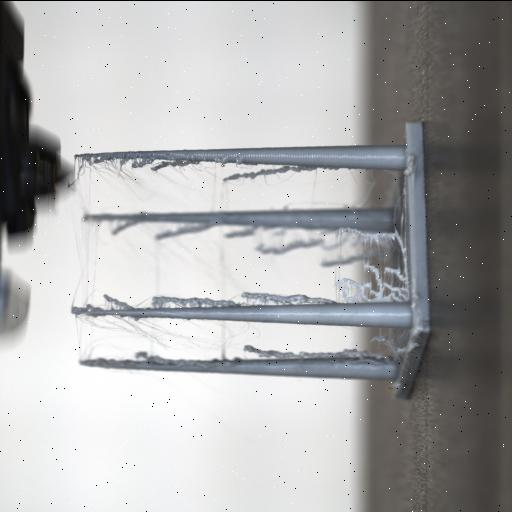stringing: (75, 156, 403, 365)
